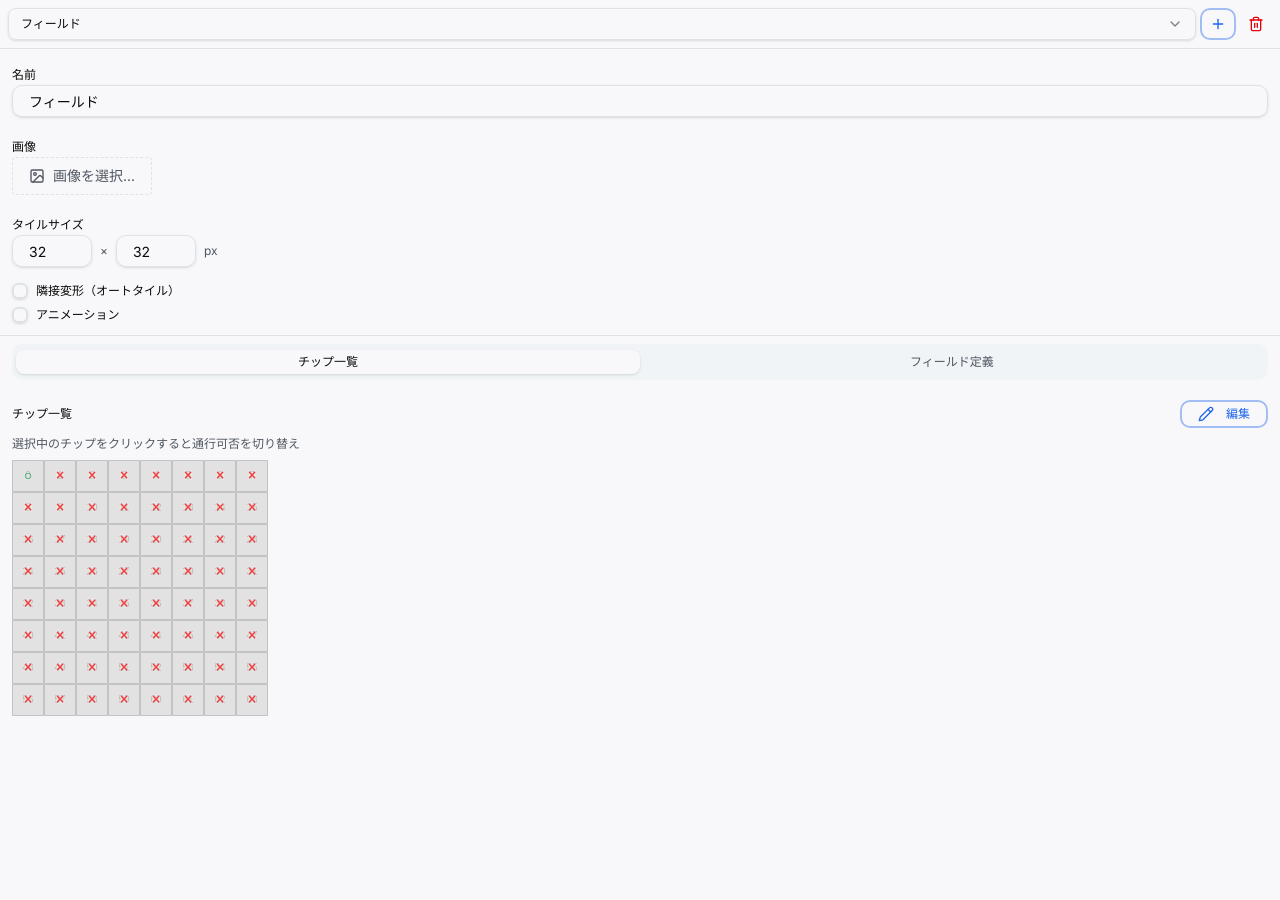
Test: ChipsetEditor › 未選択のチップをクリックすると選択され右カラムに ChipPropertyEditor が表示される
The width and height of the screenshot is (1280, 900).
Click the drawing with test id "chip-grid" at {"x": 140, "y": 588}, box [12,460,268,716]
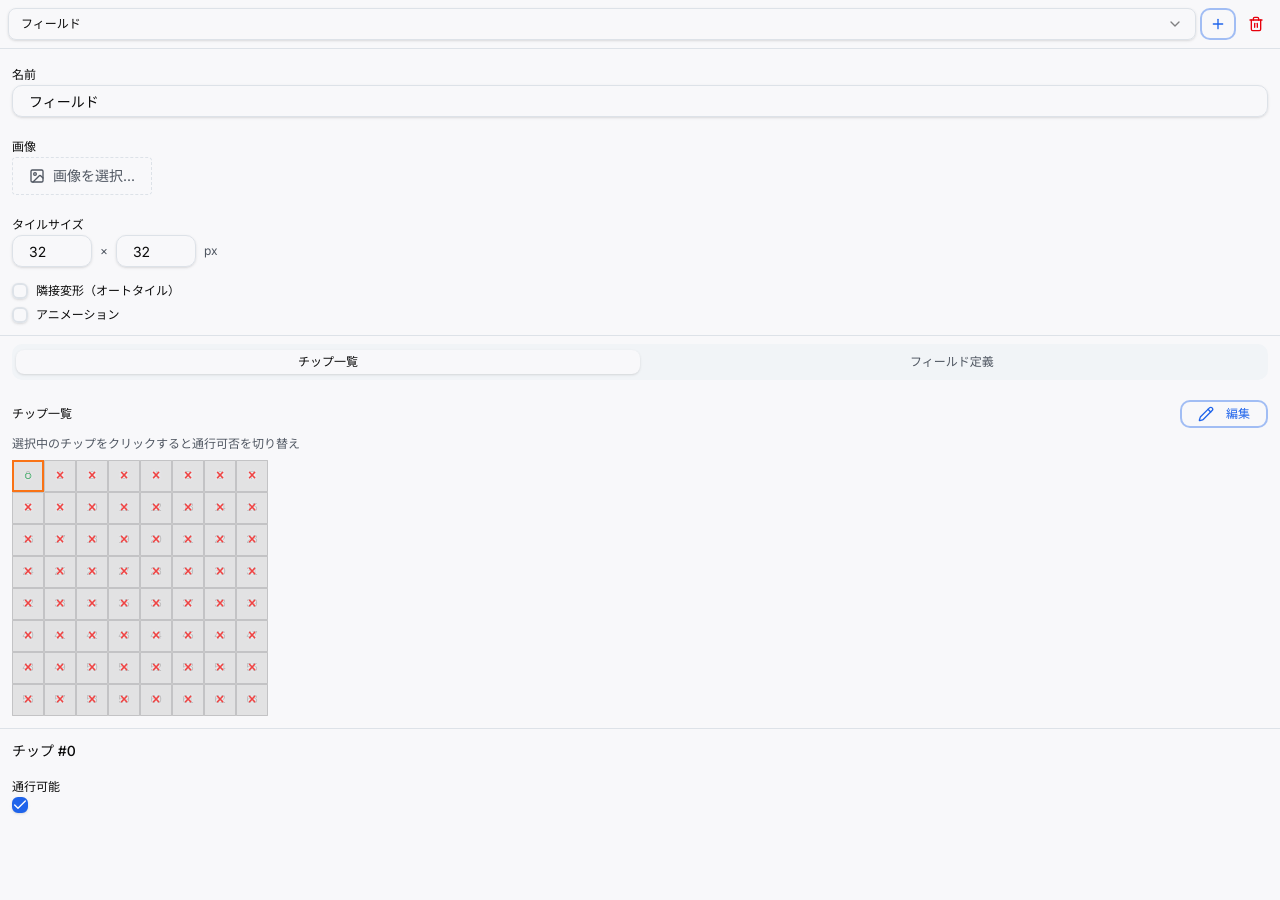
Expected: the element with test id "chip-property-editor" is shown, [12,742,76,813]
